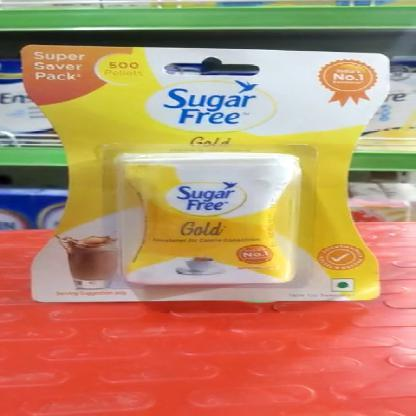SUGAR FREE GOLD 500 PELLET: (26, 49, 378, 303)
